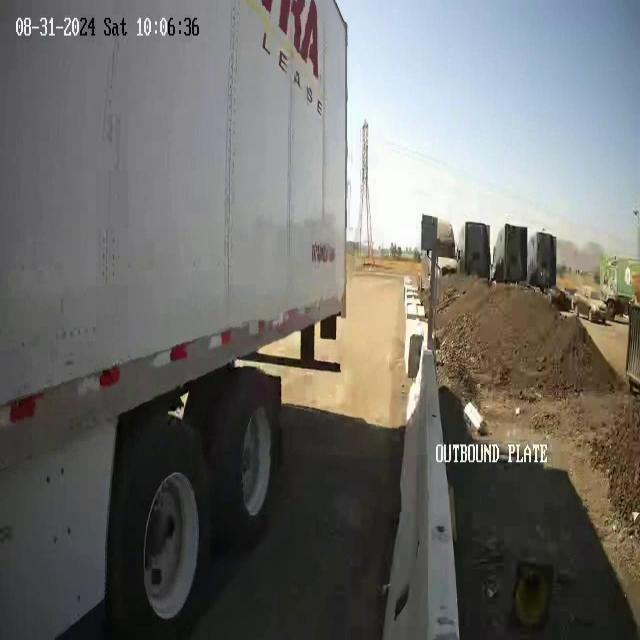TRUCK_OUT: (0, 1, 350, 636)
